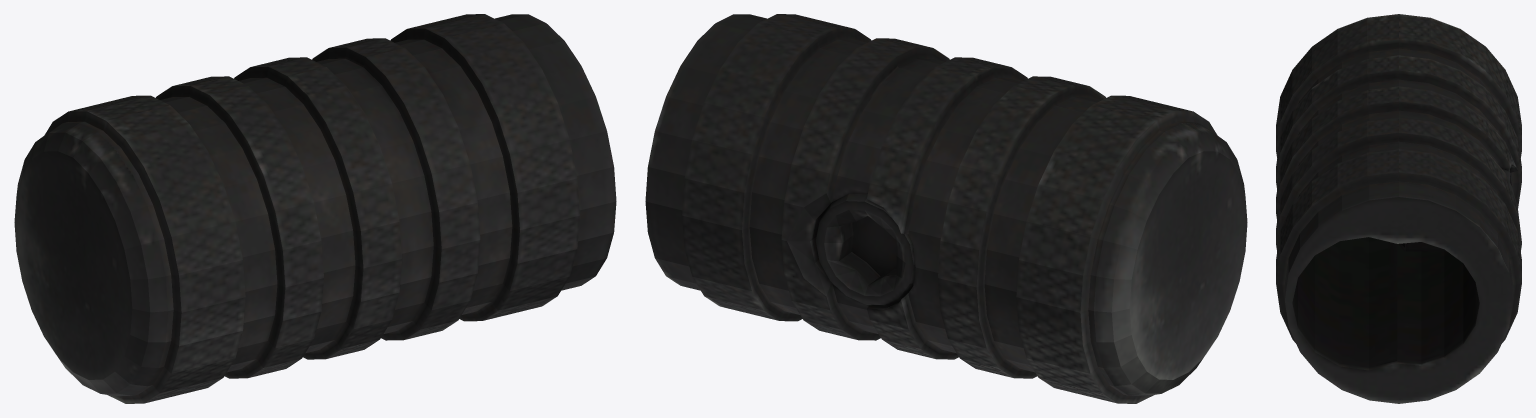
3 renders of one model, left to right at view 1: azimuth 30°, elevation 25°; view 2: azimuth 150°, elevation 25°; view 3: azimuth 270°, elevation 25°, orthographic. The views are drawn at different scales.
Visible parts, largest first — view 1: TW_6130ca3fd92c473c77020dbd_PZ_Import; view 2: TW_6130ca3fd92c473c77020dbd_PZ_Import; view 3: TW_6130ca3fd92c473c77020dbd_PZ_Import.
Boxes of the visible parts, x1,y1,x2,y2 form: TW_6130ca3fd92c473c77020dbd_PZ_Import: (14, 14, 616, 403); TW_6130ca3fd92c473c77020dbd_PZ_Import: (645, 14, 1247, 403); TW_6130ca3fd92c473c77020dbd_PZ_Import: (1276, 14, 1521, 403).
Size of the model in its own units: 0.02 by 0.011 by 0.011.
Materials: 1 (1 with a texture image).
